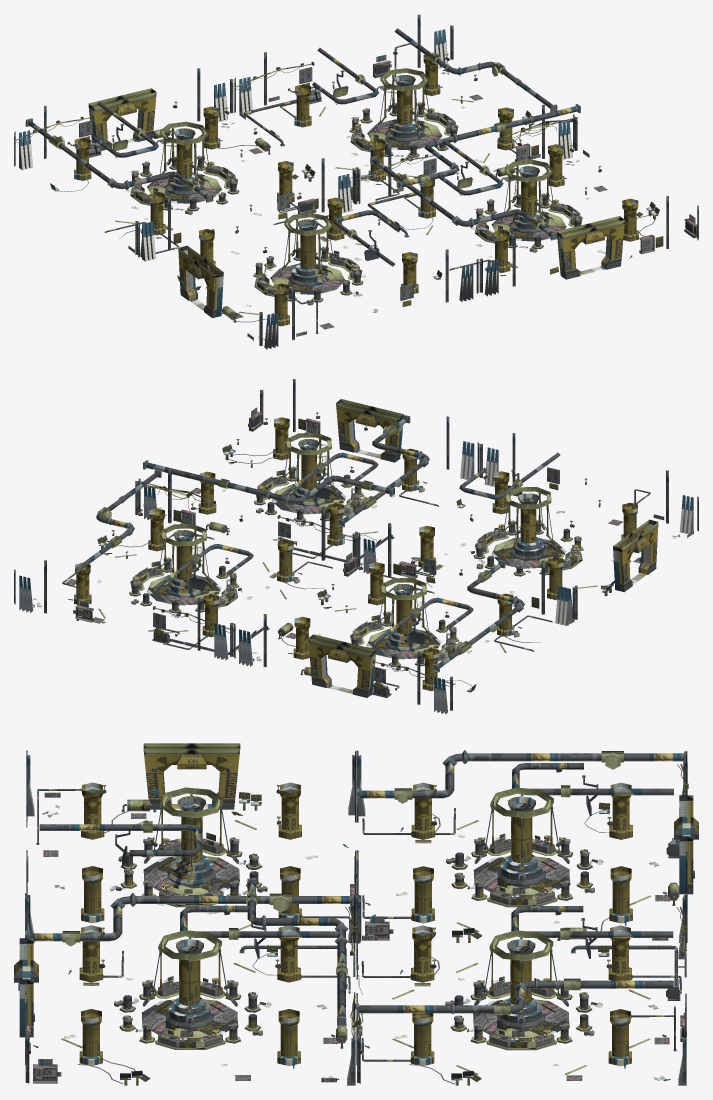
Rendered from Combined_Mesh_root_scene__9_f65a131e__ZombiesII_laboratory_06_d_24666406_c1f257_part001.obj.
The picture shows the model from 3 angles, top to bottom: view 1: azimuth 30°, elevation 25°; view 2: azimuth 150°, elevation 25°; view 3: azimuth 270°, elevation 25°; orthographic projection. The views are drawn at different scales.
Bounding box in the file's own units: 83.04 × 10.34 × 83.14.
Materials: 538 (538 with a texture image).
